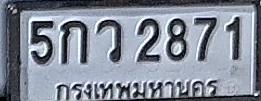1: (226, 16, 240, 60)
2: (137, 18, 160, 62)
5: (30, 20, 54, 64)
7: (194, 16, 217, 61)
8: (166, 18, 187, 61)
A01: (60, 20, 88, 64)
A37: (96, 20, 122, 62)
BKK: (52, 78, 220, 101)
